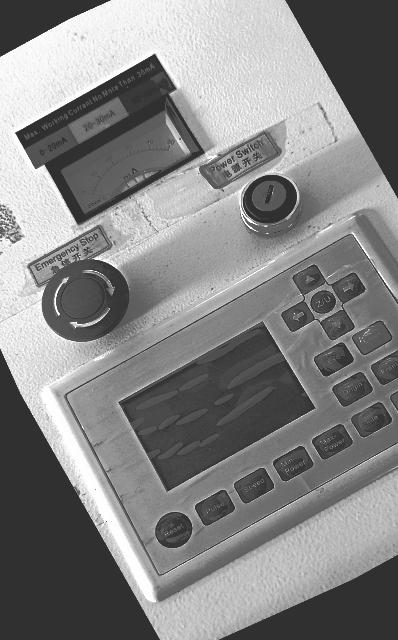Amp_Meter: (60, 98, 199, 214)
Display: (121, 325, 313, 490)
Down_button: (321, 309, 354, 340)
Emergency_Stop: (42, 259, 129, 342)
Enter_button: (352, 321, 392, 354)
Esc_button: (314, 343, 353, 376)
File_button: (352, 403, 392, 437)
Frame_button: (372, 351, 398, 384)
Left_button: (282, 302, 314, 331)
Max-Power_button: (313, 425, 352, 459)
Min-Power_button: (274, 447, 313, 481)
Origin_button: (333, 373, 372, 406)
Power_switch: (240, 174, 302, 238)
Pulse_button: (195, 490, 234, 525)
Reset_button: (156, 513, 192, 548)
Right_button: (332, 273, 365, 303)
Speed_button: (235, 468, 274, 503)
Start-Pause_button: (391, 392, 398, 410)
Up_button: (293, 265, 325, 295)
Z_U_button: (311, 290, 336, 313)
